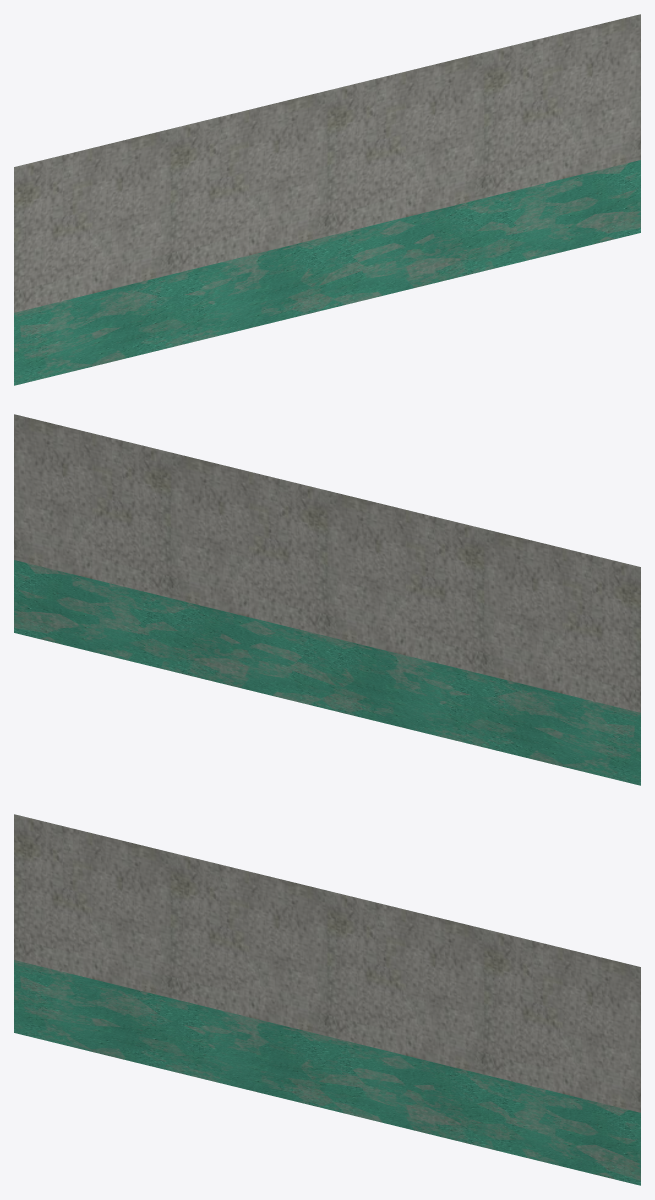
File: wall.12x4_clear.glb
3 renders of one model, top to bottom at view 1: azimuth 30°, elevation 25°; view 2: azimuth 150°, elevation 25°; view 3: azimuth 330°, elevation 25°, orthographic.
Visible parts, largest first — view 1: Plane; view 2: Plane; view 3: Plane.
Boxes of the visible parts, left/top/right/bottom form: Plane: left=14, top=14, right=640, bottom=385; Plane: left=14, top=414, right=640, bottom=785; Plane: left=14, top=814, right=640, bottom=1185.
Size of the model in its own units: 12 by 4 by 8.74e-08.
Materials: 2 (2 with a texture image).
